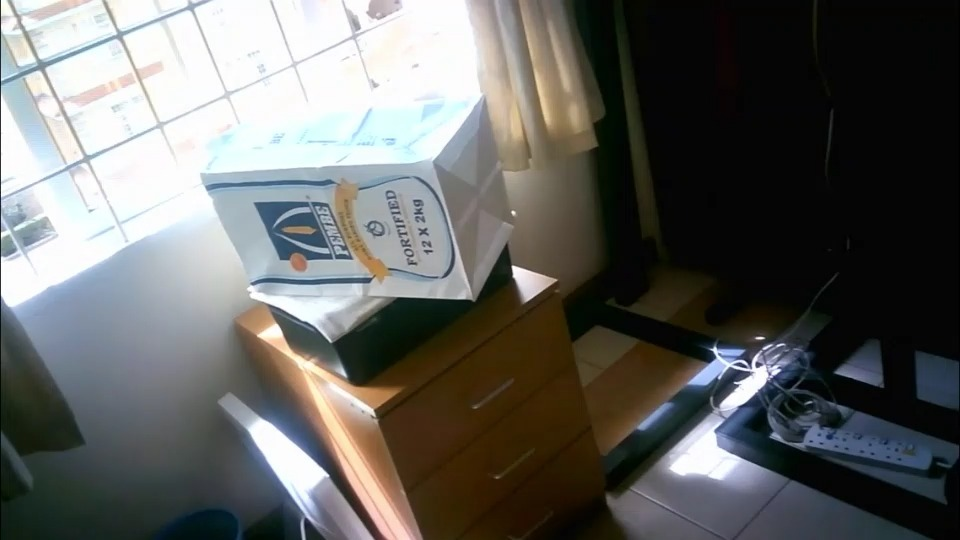wheat_flour_blue_label: (200, 95, 512, 299)
